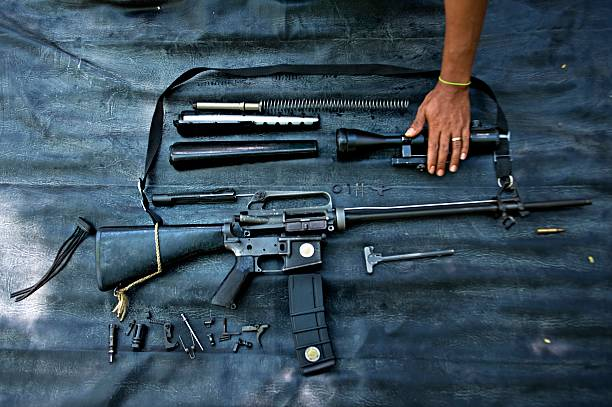rifle: (98, 190, 597, 377)
